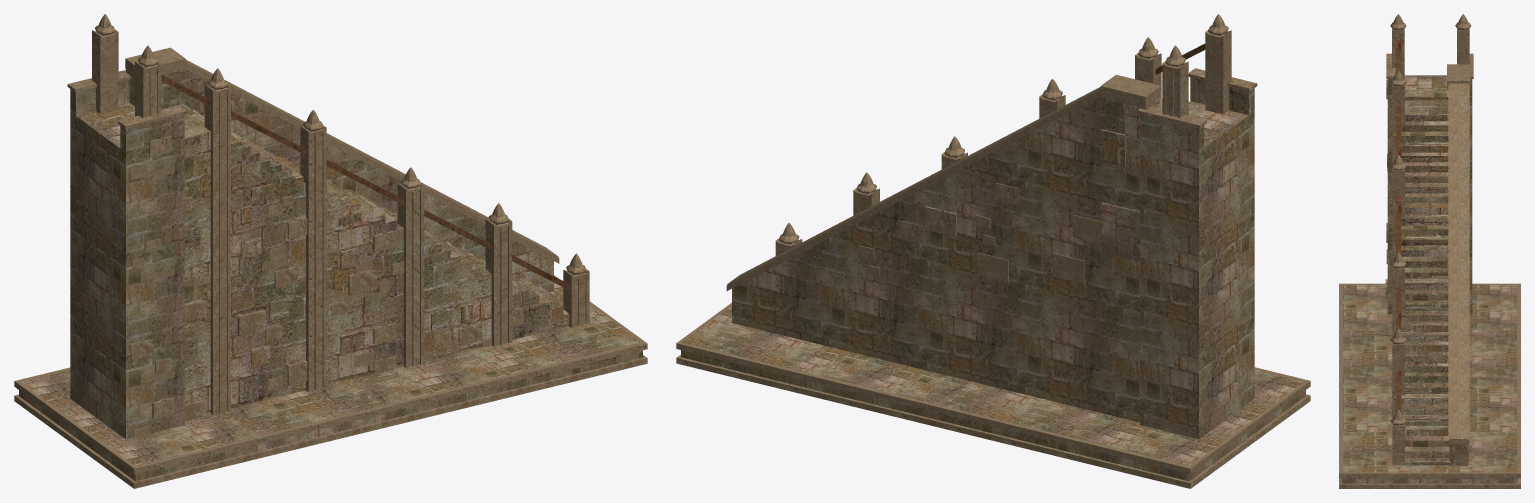
File: fbxStairs.fbx
3 views of the same model, side by side, from view 1: azimuth 30°, elevation 25°; view 2: azimuth 150°, elevation 25°; view 3: azimuth 270°, elevation 25° (orthographic). The views are drawn at different scales.
Parts seen in each view (by area): view 1: structure, pCube336, febce_stairs, floor, pCube121, febce_stairs2, febce_stairs1, pCube184, pCube334, pCube332, pCube333; view 2: febce_stairs, pCube336, floor, febce_stairs1, febce_stairs2, pCube182, pCube187, pCube185; view 3: floor, structure, febce_stairs, pCube336, pCube121, febce_stairs2, febce_stairs1.
Boxes of the visible parts, box(x1,y1,x2,y2) form: structure: box(161, 103, 569, 414); pCube336: box(67, 70, 186, 439); febce_stairs: box(125, 47, 589, 415); floor: box(14, 275, 647, 488); pCube121: box(161, 75, 569, 289); febce_stairs2: box(92, 14, 118, 114); febce_stairs1: box(135, 45, 161, 117); pCube184: box(237, 269, 376, 336); pCube334: box(184, 266, 297, 321); pCube332: box(184, 361, 307, 421); pCube333: box(373, 324, 481, 373); febce_stairs: box(726, 37, 1161, 422); pCube336: box(1137, 68, 1257, 439); floor: box(676, 303, 1310, 488); febce_stairs1: box(1205, 14, 1231, 114); febce_stairs2: box(1162, 45, 1188, 118); pCube182: box(924, 206, 1084, 283); pCube187: box(899, 220, 1008, 282); pCube185: box(995, 182, 1100, 244); floor: box(1339, 283, 1520, 488); structure: box(1394, 100, 1449, 465); febce_stairs: box(1390, 64, 1470, 465); pCube336: box(1386, 53, 1473, 314); pCube121: box(1395, 40, 1401, 412); febce_stairs2: box(1455, 14, 1471, 64); febce_stairs1: box(1390, 14, 1406, 78).
Bounding box in the file's own units: 11.6 × 8.68 × 4.69.
4 materials, 4 textured.
